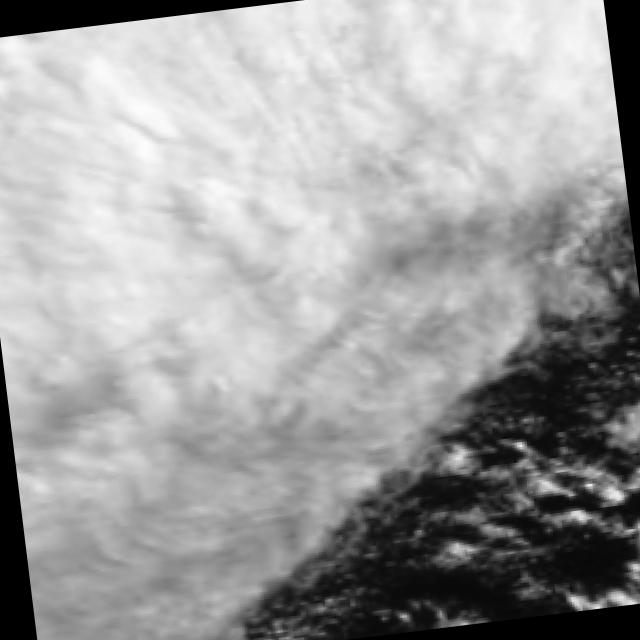CB: (0, 0, 611, 234), (0, 196, 319, 510)
